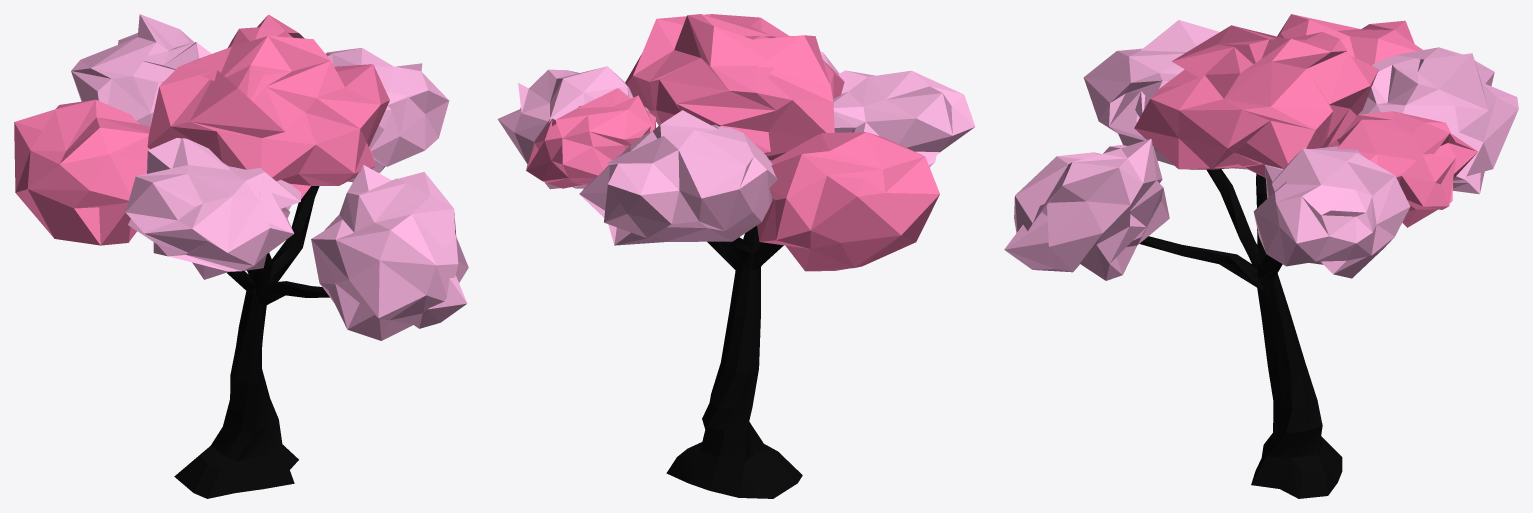
The model's file is Sakura01.fbx.
The picture shows the model from 3 angles, left to right: view 1: azimuth 30°, elevation 25°; view 2: azimuth 150°, elevation 25°; view 3: azimuth 270°, elevation 25°; orthographic projection.
Parts seen in each view (by area): view 1: Crown, Trunk; view 2: Crown, Trunk; view 3: Crown, Trunk.
Part boxes in pixels (<box>): Crown: <box>14,14,468,340</box>; Trunk: <box>174,186,329,498</box>; Crown: <box>497,14,975,271</box>; Trunk: <box>666,225,802,498</box>; Crown: <box>1004,14,1518,280</box>; Trunk: <box>1139,169,1342,498</box>.
Size of the model in its own units: 276 by 275 by 290.
